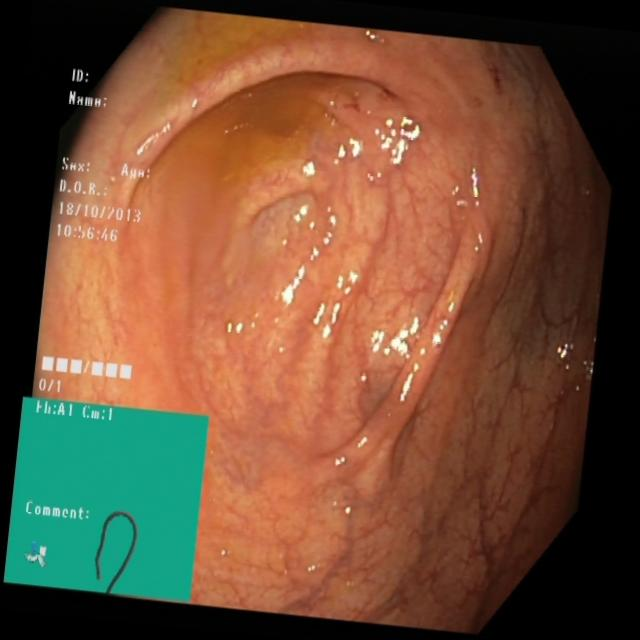normal-cecum: (152, 2, 346, 211)
